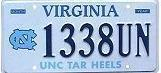placa de veiculo: (2, 1, 160, 73)
